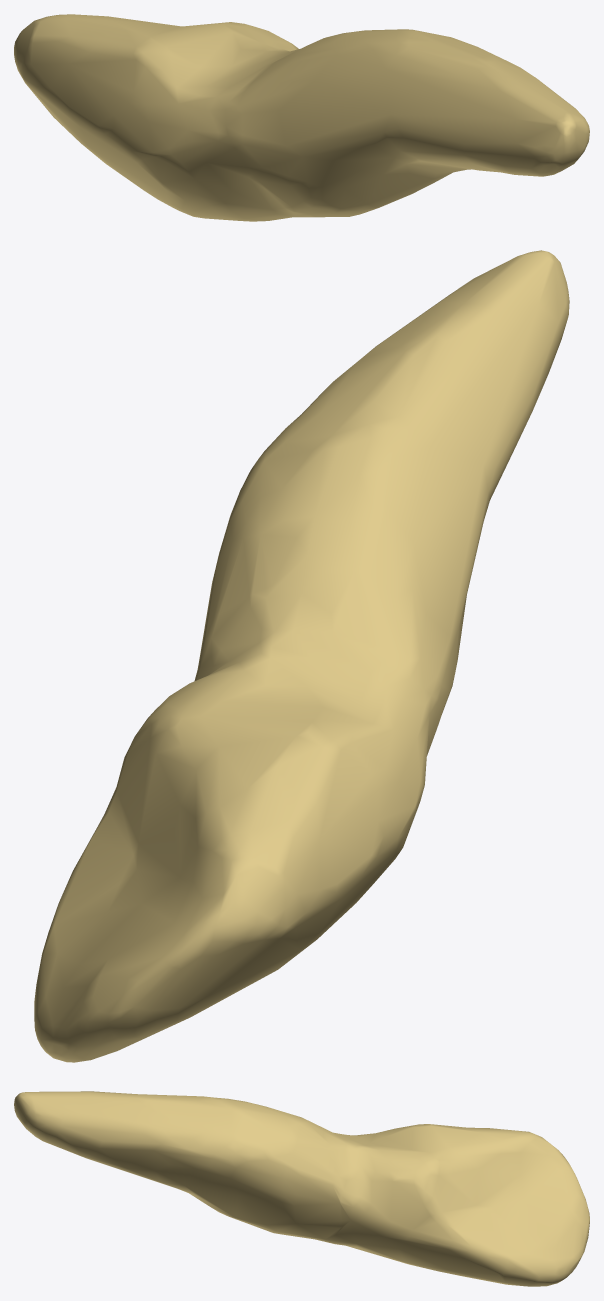
The picture shows the model from 3 angles, top to bottom: view 1: azimuth 30°, elevation 25°; view 2: azimuth 150°, elevation 25°; view 3: azimuth 270°, elevation 25°; orthographic projection. The views are drawn at different scales.
Visible parts, largest first — view 1: 右侧上颌侧切牙; view 2: 右侧上颌侧切牙; view 3: 右侧上颌侧切牙.
Part boxes in pixels (box(x1,y1,x2,y2)): 右侧上颌侧切牙: box(14, 14, 589, 221); 右侧上颌侧切牙: box(34, 250, 569, 1062); 右侧上颌侧切牙: box(14, 1091, 589, 1286).
Bounding box in the file's own units: 0.0138 × 0.0163 × 0.0416.
